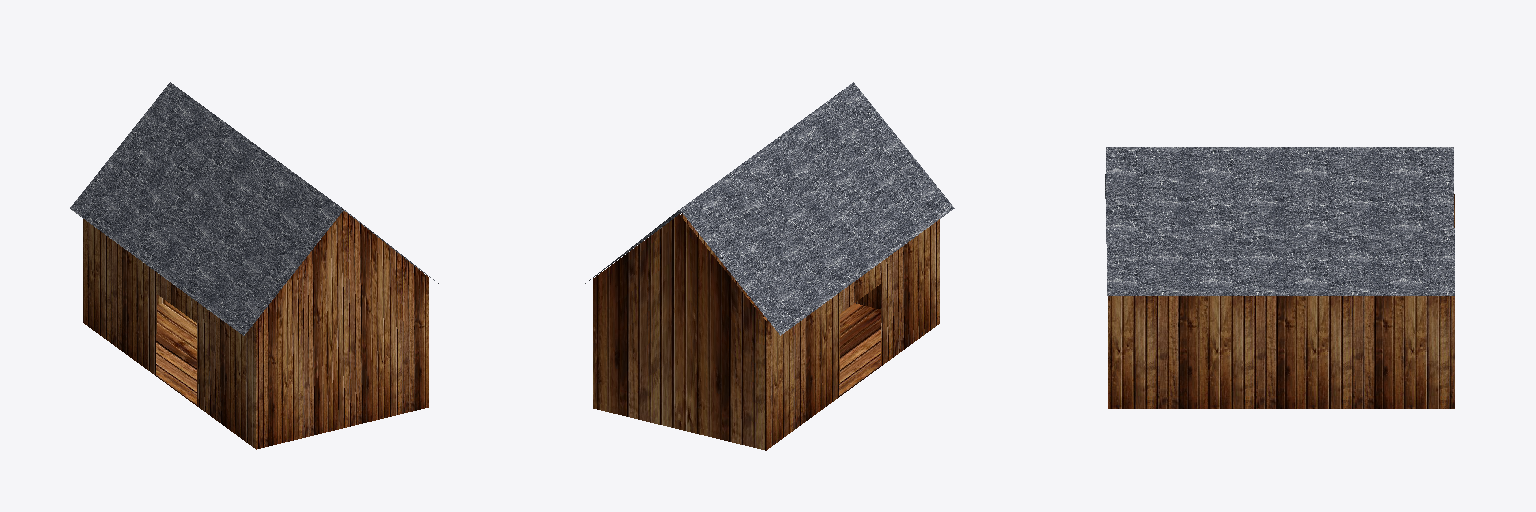
3 renders of one model, left to right at view 1: azimuth 30°, elevation 25°; view 2: azimuth 150°, elevation 25°; view 3: azimuth 270°, elevation 25°, orthographic.
Parts seen in each view (by area): view 1: 148; view 2: 148; view 3: none.
Boxes of the visible parts, box(x1,y1,x2,y2) form: 148: box(197, 302, 255, 448); 148: box(881, 219, 939, 365).
Bounding box in the file's own units: 8.54 × 9.02 × 13.01.
Materials: 3 (2 with a texture image).